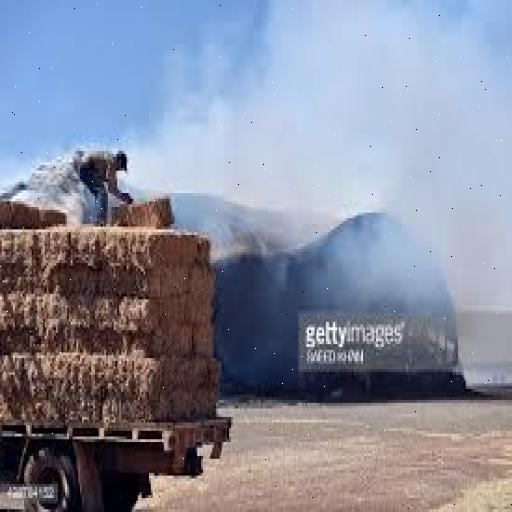smoke: (335, 45, 486, 288)
